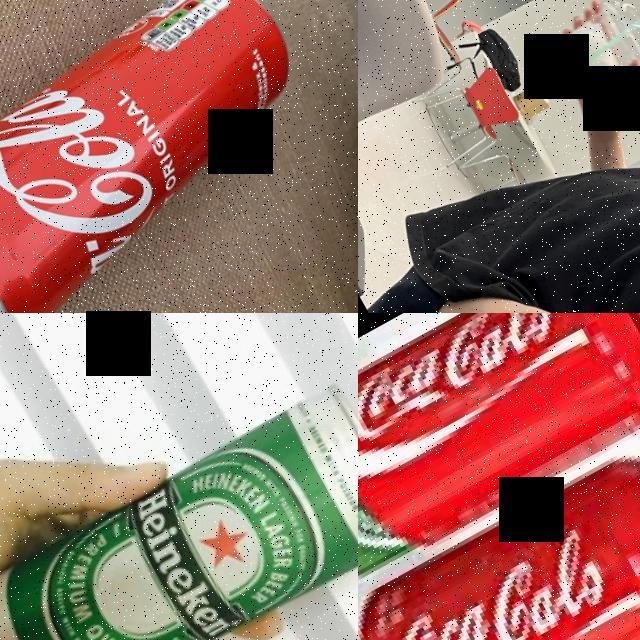can: (0, 0, 356, 313), (0, 374, 358, 640), (358, 313, 640, 611), (358, 432, 640, 640)
cup: (525, 0, 640, 112)
